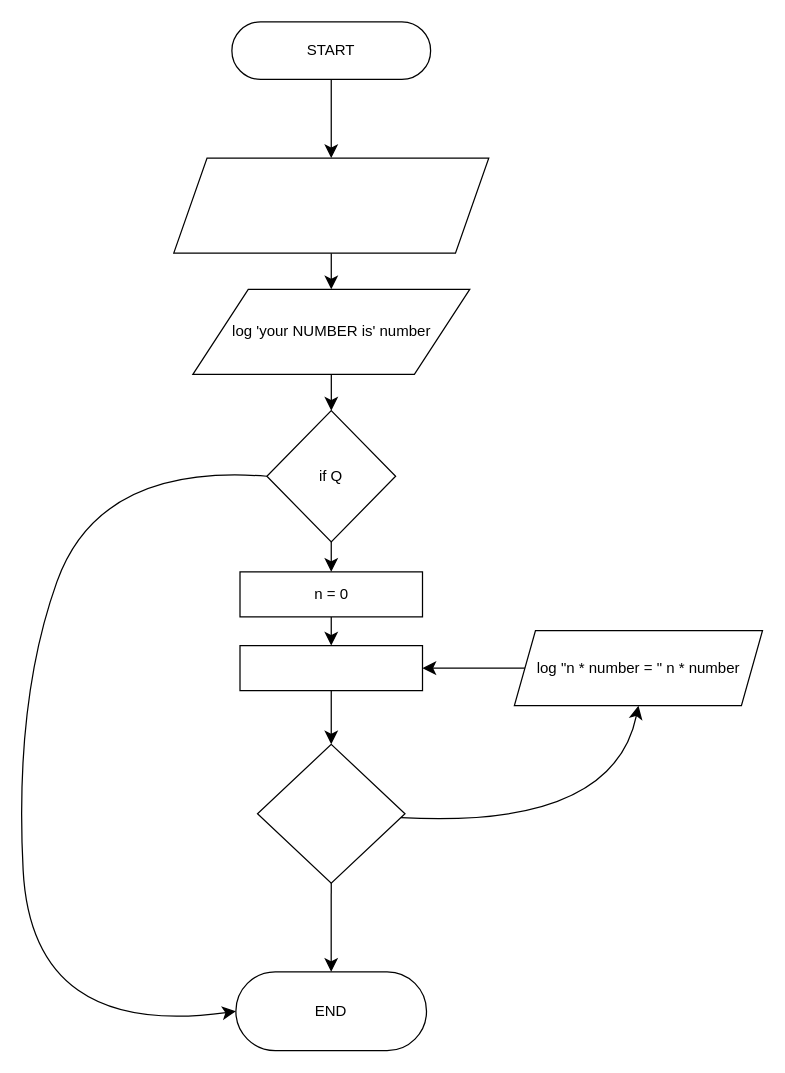
This 785x1073 diagram has some shape labels left out. Here are the shapes that lost their labels. From the top down, the centre of each, then its label:
(330,205): OBTAIN A NUMBER number 'please insert a number: ' 'or quit [Q]'
(330,667): n + 1
(330,813): n <= number
